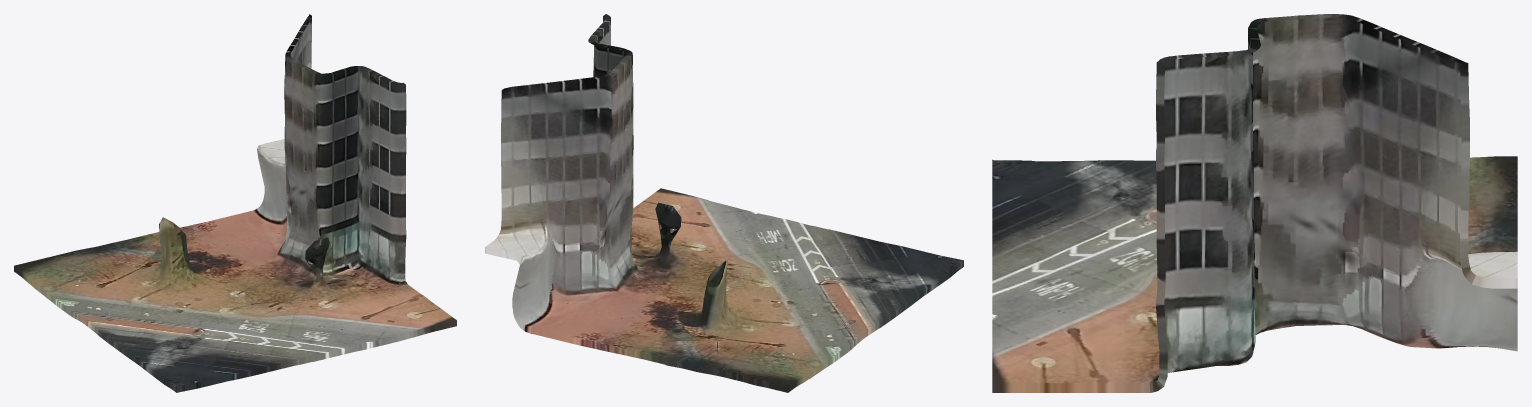
The model's file is z20-167775-405235-h0-yup-uvflip-v3-world.glb.
3 renders of one model, left to right at view 1: azimuth 30°, elevation 25°; view 2: azimuth 150°, elevation 25°; view 3: azimuth 270°, elevation 25°, orthographic. The views are drawn at different scales.
Size of the model in its own units: 30.16 by 21.12 by 30.32.
1 material, 1 textured.
